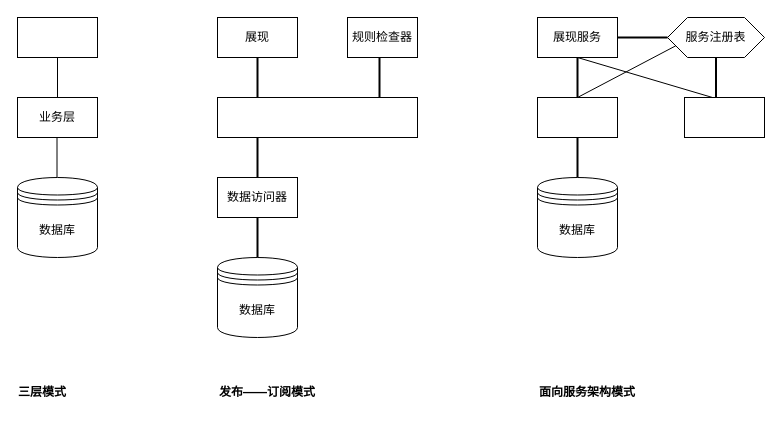
This 782x435 diagram has some shape labels left out. Here are the shapes that lost their labels. From the top down, the centre of each, then its label:
pixel 57 37: 服务层
pixel 317 117: 事件总线
pixel 577 117: 数据服务
pixel 724 117: 规则服务
